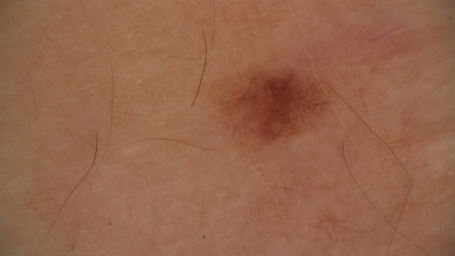melanoma: (226, 73, 329, 139)
